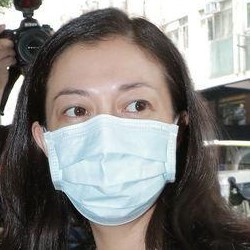mask: (44, 113, 177, 221)
